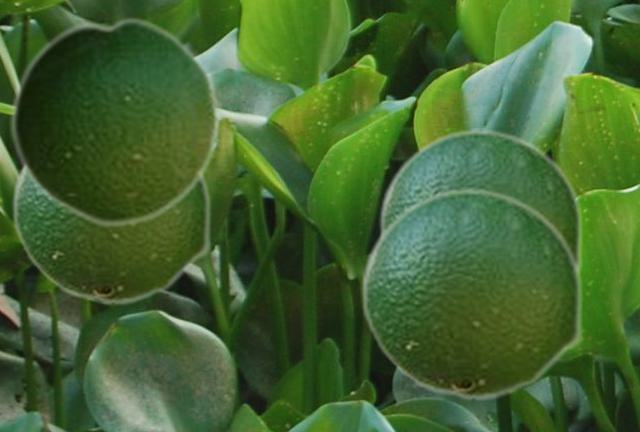dalandan: (360, 187, 583, 401), (9, 14, 220, 228), (378, 128, 583, 271), (11, 167, 211, 305)
